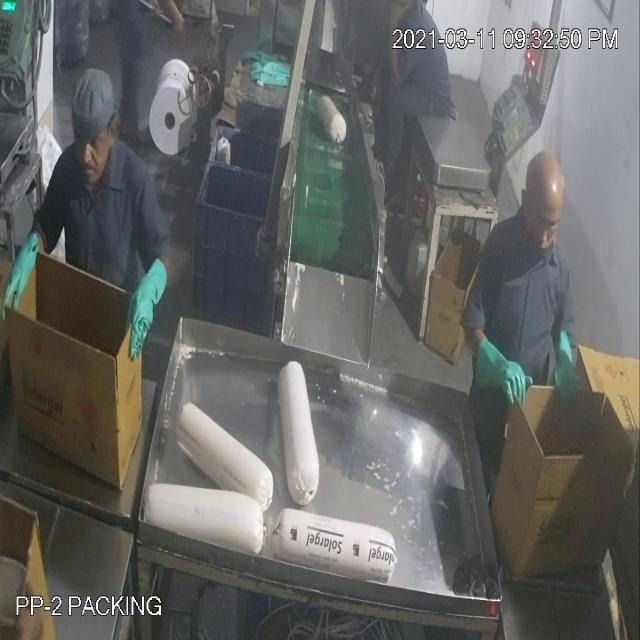Gloves: (22, 90, 564, 362)
